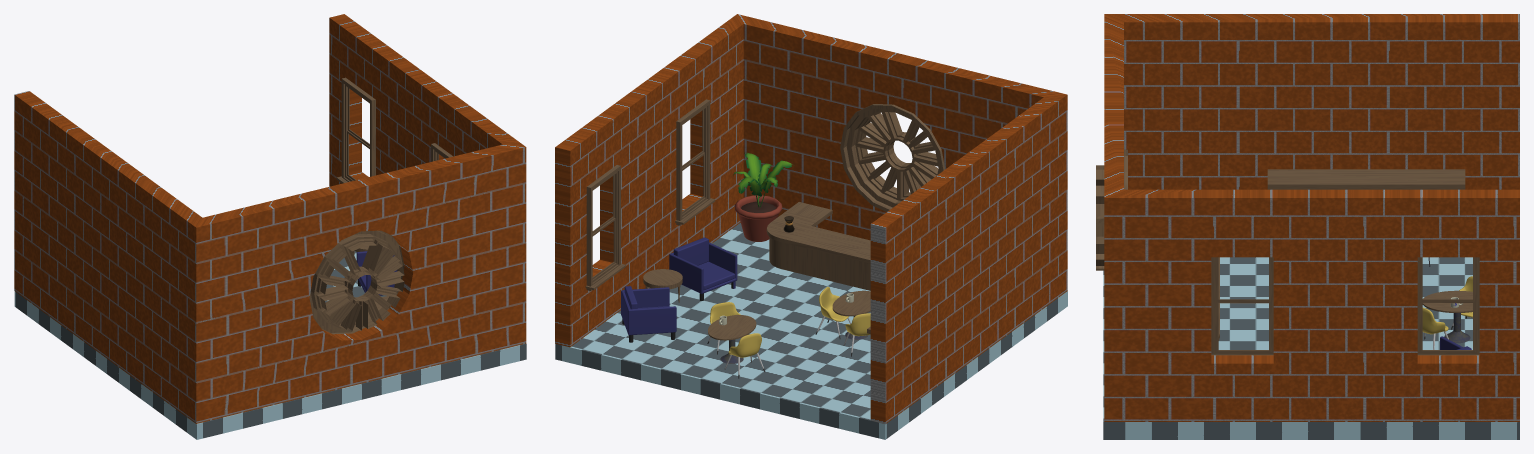
Rendered from cafeScene.fbx.
3 renders of one model, left to right at view 1: azimuth 30°, elevation 25°; view 2: azimuth 150°, elevation 25°; view 3: azimuth 270°, elevation 25°, orthographic. The views are drawn at different scales.
Visible parts, largest first — view 1: Walls, Floor, circleWindow, Window.001; view 2: Walls, Floor, circleWindow, Counter, Bucket_Chair.001, Bucket_Chair, Window, Window.001, plantPot, Plant.001, Table.001, Table (+4 smaller); view 3: Walls, Floor, Bar, Window, Window.001, Table.001, circleWindow, Chair.002.
Boxes of the visible parts, <box> form: Walls: <box>14,14,526,423</box>; Floor: <box>14,251,526,439</box>; circleWindow: <box>309,230,404,334</box>; Window.001: <box>336,77,375,183</box>; Walls: <box>555,14,1067,424</box>; Floor: <box>555,223,1067,439</box>; circleWindow: <box>840,104,945,211</box>; Counter: <box>766,202,870,290</box>; Bucket_Chair.001: <box>669,237,737,300</box>; Bucket_Chair: <box>621,286,676,342</box>; Window: <box>675,99,715,225</box>; Window.001: <box>585,165,625,290</box>; plantPot: <box>734,195,782,241</box>; Plant.001: <box>733,152,792,207</box>; Table.001: <box>708,315,756,363</box>; Table: <box>832,290,870,339</box>; Walls: <box>1104,14,1519,421</box>; Floor: <box>1103,257,1519,439</box>; Bar: <box>1267,169,1465,189</box>; Window: <box>1211,257,1273,355</box>; Window.001: <box>1417,257,1479,355</box>; Table.001: <box>1422,290,1472,343</box>; circleWindow: <box>1096,149,1127,270</box>; Chair.002: <box>1422,307,1448,349</box>.
Size of the model in its own units: 4.4 by 2.7 by 4.28.
